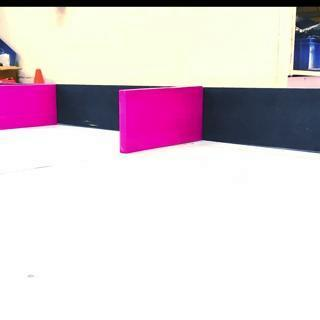xparking: (120, 90, 204, 150), (2, 84, 58, 128)
